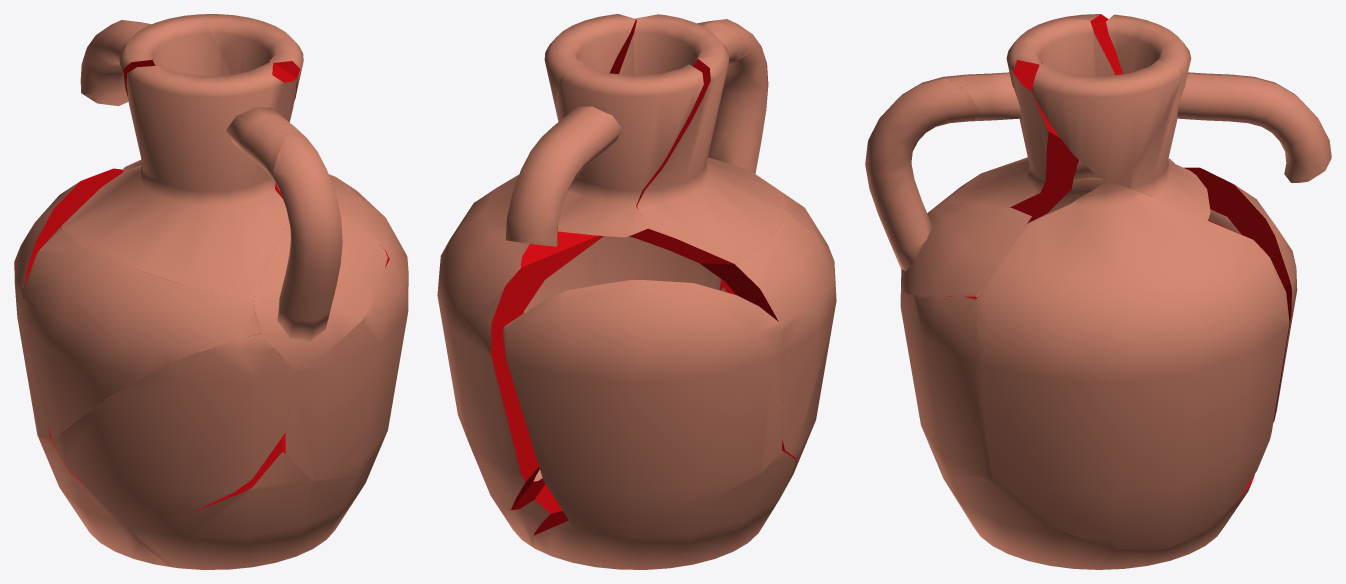
Rendered from ClayPot_03_destroyed 1.fbx.
The picture shows the model from 3 angles, left to right: view 1: azimuth 30°, elevation 25°; view 2: azimuth 150°, elevation 25°; view 3: azimuth 270°, elevation 25°; orthographic projection.
Visible parts, largest first — view 1: ClayPot_03_cell, ClayPot_03_cell.010, ClayPot_03_cell.013, ClayPot_03_cell.006, ClayPot_03_cell.012, ClayPot_03_cell.004, ClayPot_03_cell.008, ClayPot_03_cell.003, ClayPot_03_cell.007, ClayPot_03_cell.001, ClayPot_03_cell.002, ClayPot_03_cell.011; view 2: ClayPot_03_cell.003, ClayPot_03_cell.011, ClayPot_03_cell, ClayPot_03_cell.008, ClayPot_03_cell.013, ClayPot_03_cell.001, ClayPot_03_cell.002, ClayPot_03_cell.006, ClayPot_03_cell.004, ClayPot_03_cell.007, ClayPot_03_cell.012, ClayPot_03_cell.010; view 3: ClayPot_03_cell.011, ClayPot_03_cell.006, ClayPot_03_cell, ClayPot_03_cell.004, ClayPot_03_cell.007, ClayPot_03_cell.012, ClayPot_03_cell.002, ClayPot_03_cell.008, ClayPot_03_cell.003, ClayPot_03_cell.013.
Boxes of the visible parts, <box> form: ClayPot_03_cell: <box>61,62,296,301</box>; ClayPot_03_cell.010: <box>54,333,294,515</box>; ClayPot_03_cell.013: <box>22,226,261,443</box>; ClayPot_03_cell.006: <box>253,127,387,369</box>; ClayPot_03_cell.012: <box>84,432,384,569</box>; ClayPot_03_cell.004: <box>285,259,408,481</box>; ClayPot_03_cell.008: <box>119,14,231,172</box>; ClayPot_03_cell.003: <box>14,168,123,438</box>; ClayPot_03_cell.007: <box>202,14,303,100</box>; ClayPot_03_cell.001: <box>38,438,168,566</box>; ClayPot_03_cell.002: <box>80,20,151,106</box>; ClayPot_03_cell.011: <box>275,174,408,292</box>; ClayPot_03_cell.003: <box>503,280,784,522</box>; ClayPot_03_cell.011: <box>437,174,603,510</box>; ClayPot_03_cell: <box>609,14,787,264</box>; ClayPot_03_cell.008: <box>557,64,703,237</box>; ClayPot_03_cell.013: <box>700,194,836,450</box>; ClayPot_03_cell.001: <box>531,450,795,569</box>; ClayPot_03_cell.002: <box>505,106,622,246</box>; ClayPot_03_cell.006: <box>697,19,768,173</box>; ClayPot_03_cell.004: <box>595,236,735,294</box>; ClayPot_03_cell.007: <box>544,14,635,121</box>; ClayPot_03_cell.012: <box>499,287,801,546</box>; ClayPot_03_cell.010: <box>783,331,831,460</box>; ClayPot_03_cell.011: <box>976,182,1289,549</box>; ClayPot_03_cell.006: <box>865,78,1031,296</box>; ClayPot_03_cell: <box>933,14,1175,223</box>; ClayPot_03_cell.004: <box>900,291,993,481</box>; ClayPot_03_cell.007: <box>1031,60,1181,183</box>; ClayPot_03_cell.012: <box>923,430,1254,569</box>; ClayPot_03_cell.002: <box>1177,72,1331,182</box>; ClayPot_03_cell.008: <box>1106,14,1210,220</box>; ClayPot_03_cell.003: <box>1184,167,1297,422</box>; ClayPot_03_cell.013: <box>927,178,1104,223</box>.
Size of the model in its own units: 30.67 by 39.85 by 36.09.
